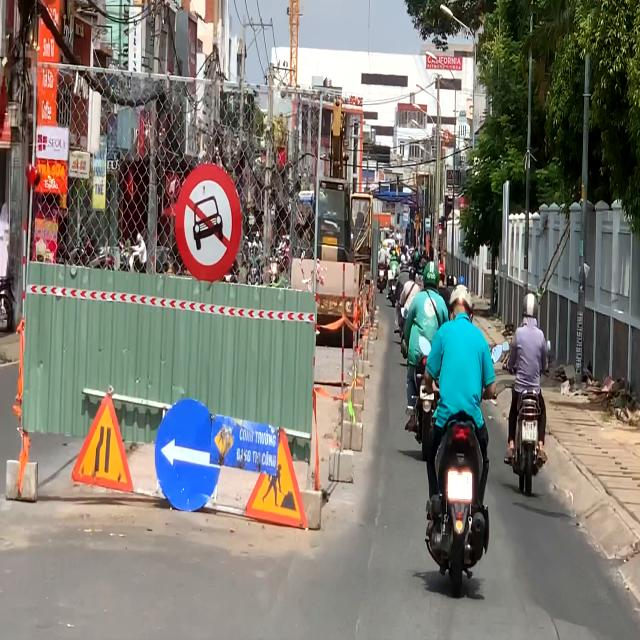P.103a: (174, 162, 243, 284)
R.301c: (154, 397, 222, 514)
W.203b: (70, 389, 134, 494)
W.227: (244, 428, 310, 534)
